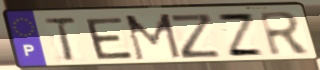E: (82, 16, 136, 61)
M: (122, 12, 184, 63)
R: (256, 10, 314, 58)
T: (40, 16, 79, 64)
Z: (168, 12, 224, 60), (215, 12, 268, 58)
